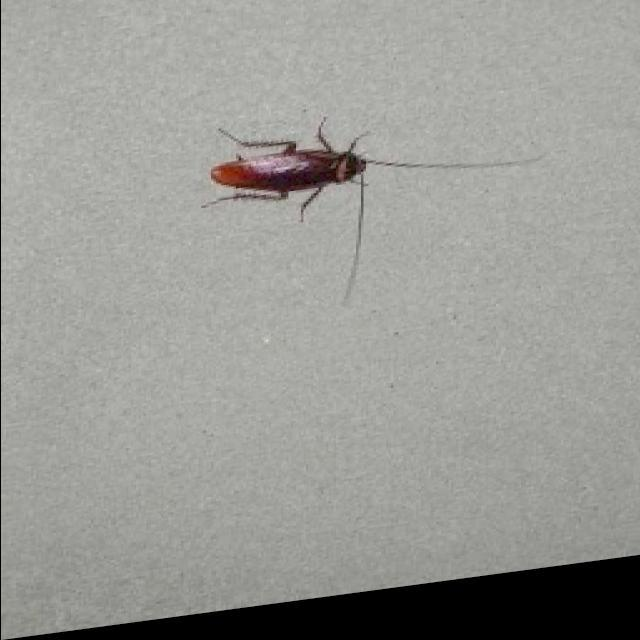cockroach: (209, 124, 386, 210)
